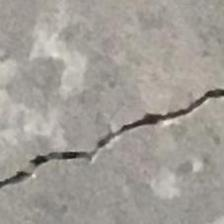Crack: (0, 82, 224, 197)
